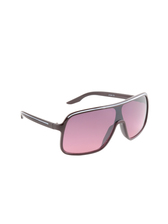glasses: (17, 89, 155, 156)
